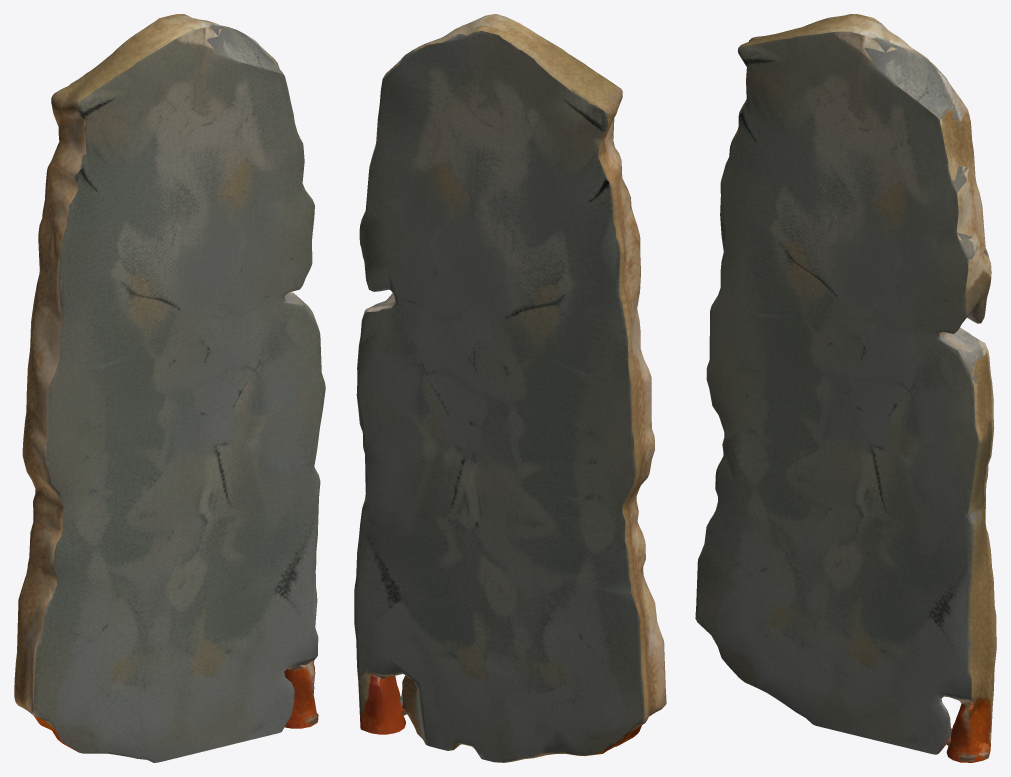
The model's file is neutral_huanca.glb.
The picture shows the model from 3 angles, left to right: view 1: azimuth 30°, elevation 25°; view 2: azimuth 150°, elevation 25°; view 3: azimuth 330°, elevation 25°; orthographic projection. The views are drawn at different scales.
Visible parts, largest first — view 1: geometry_0; view 2: geometry_0; view 3: geometry_0.
Boxes of the visible parts, <box> form: geometry_0: <box>14,14,325,762</box>; geometry_0: <box>354,14,666,762</box>; geometry_0: <box>695,14,996,762</box>.
Size of the model in its own units: 1.4 by 3.3 by 0.1975.
1 material, 1 textured.
